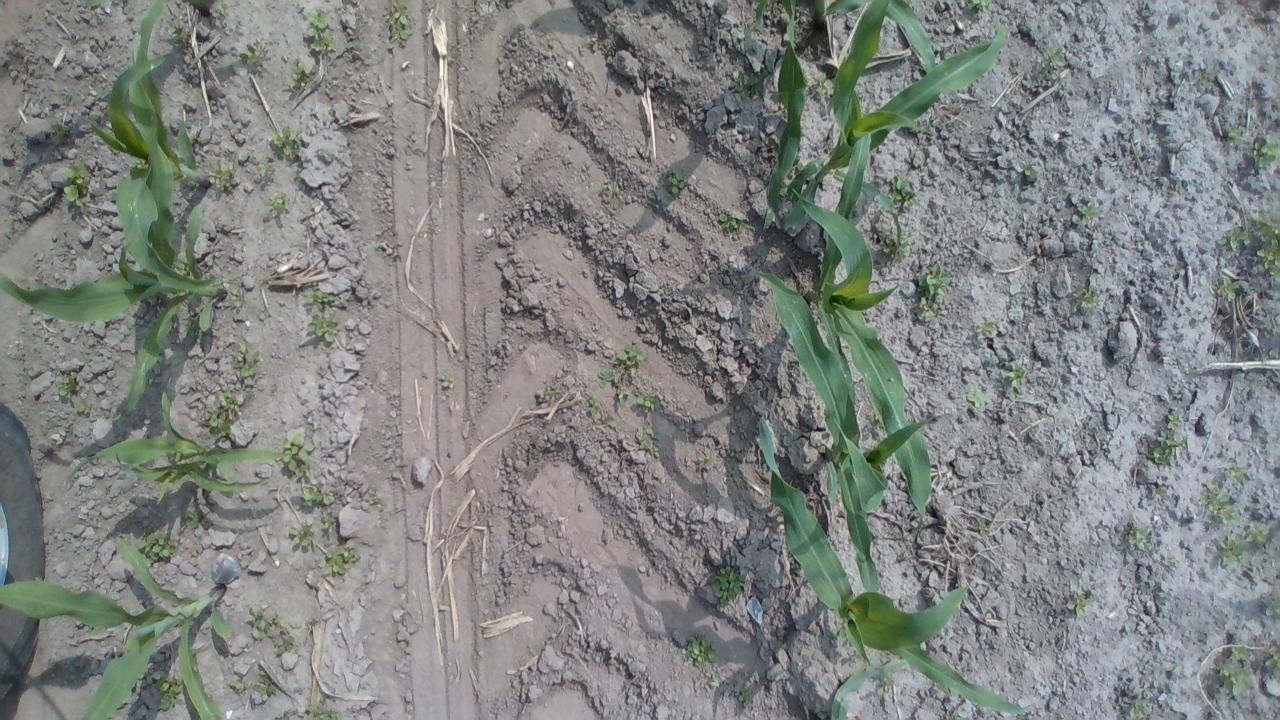Maize: (752, 410, 1036, 720), (754, 0, 1010, 255), (754, 267, 940, 597), (789, 127, 934, 510), (1, 181, 225, 419), (0, 537, 232, 720), (85, 0, 208, 245), (66, 388, 280, 500), (790, 0, 940, 78)
Weeds: (246, 606, 296, 656), (302, 284, 338, 342), (1218, 643, 1256, 697), (1252, 207, 1280, 279), (302, 5, 338, 55), (1198, 480, 1238, 524), (711, 564, 747, 608), (207, 388, 239, 437), (138, 526, 176, 566), (281, 436, 316, 478), (64, 153, 88, 209), (1152, 430, 1188, 466), (270, 124, 305, 160), (277, 701, 343, 720), (882, 229, 914, 266), (1217, 534, 1253, 566), (240, 42, 276, 74), (916, 264, 952, 296), (384, 1, 413, 40), (686, 632, 719, 666), (157, 672, 183, 714), (233, 344, 264, 378), (324, 547, 359, 577), (618, 345, 648, 378), (208, 160, 237, 192), (1253, 134, 1280, 168), (888, 174, 915, 208), (732, 68, 761, 99), (1064, 588, 1094, 616), (253, 669, 280, 699), (288, 520, 320, 545), (1222, 224, 1250, 252), (1005, 359, 1029, 391), (301, 483, 336, 504), (54, 369, 76, 401), (1071, 287, 1099, 312), (1042, 45, 1068, 70), (266, 190, 290, 217), (1127, 526, 1151, 552), (1216, 278, 1243, 300), (719, 212, 745, 234), (288, 64, 310, 90), (915, 296, 938, 320), (182, 510, 208, 530), (1247, 523, 1271, 544), (668, 172, 688, 195), (256, 157, 276, 180), (212, 274, 244, 288), (974, 317, 996, 337), (966, 390, 989, 409), (1262, 595, 1280, 619), (1264, 646, 1280, 673), (1082, 201, 1100, 225), (1126, 698, 1146, 718), (600, 367, 622, 385), (644, 422, 664, 441), (184, 314, 201, 336), (811, 72, 829, 92), (636, 394, 656, 412), (176, 258, 194, 278), (849, 650, 874, 664), (586, 393, 604, 412), (970, 0, 994, 14), (1228, 466, 1248, 482), (738, 686, 754, 706), (320, 514, 336, 534), (873, 411, 886, 435), (168, 22, 185, 39), (232, 288, 248, 306), (211, 0, 229, 16), (48, 122, 68, 136), (1200, 68, 1215, 86), (832, 626, 848, 642), (696, 454, 712, 470), (1229, 128, 1244, 145), (915, 512, 929, 528), (130, 158, 148, 170), (1167, 414, 1182, 428), (136, 666, 151, 680), (440, 373, 454, 387), (79, 403, 93, 417), (229, 678, 245, 690), (86, 0, 105, 9), (543, 386, 560, 396), (878, 684, 892, 696), (192, 653, 200, 673), (816, 43, 828, 56), (369, 498, 384, 508), (978, 520, 988, 535), (708, 676, 720, 688), (620, 386, 632, 398), (1154, 487, 1166, 498), (1022, 164, 1032, 176), (650, 447, 660, 458), (854, 87, 863, 99), (950, 712, 963, 720), (639, 439, 647, 451), (606, 419, 616, 428), (870, 441, 880, 450), (376, 239, 385, 248)
